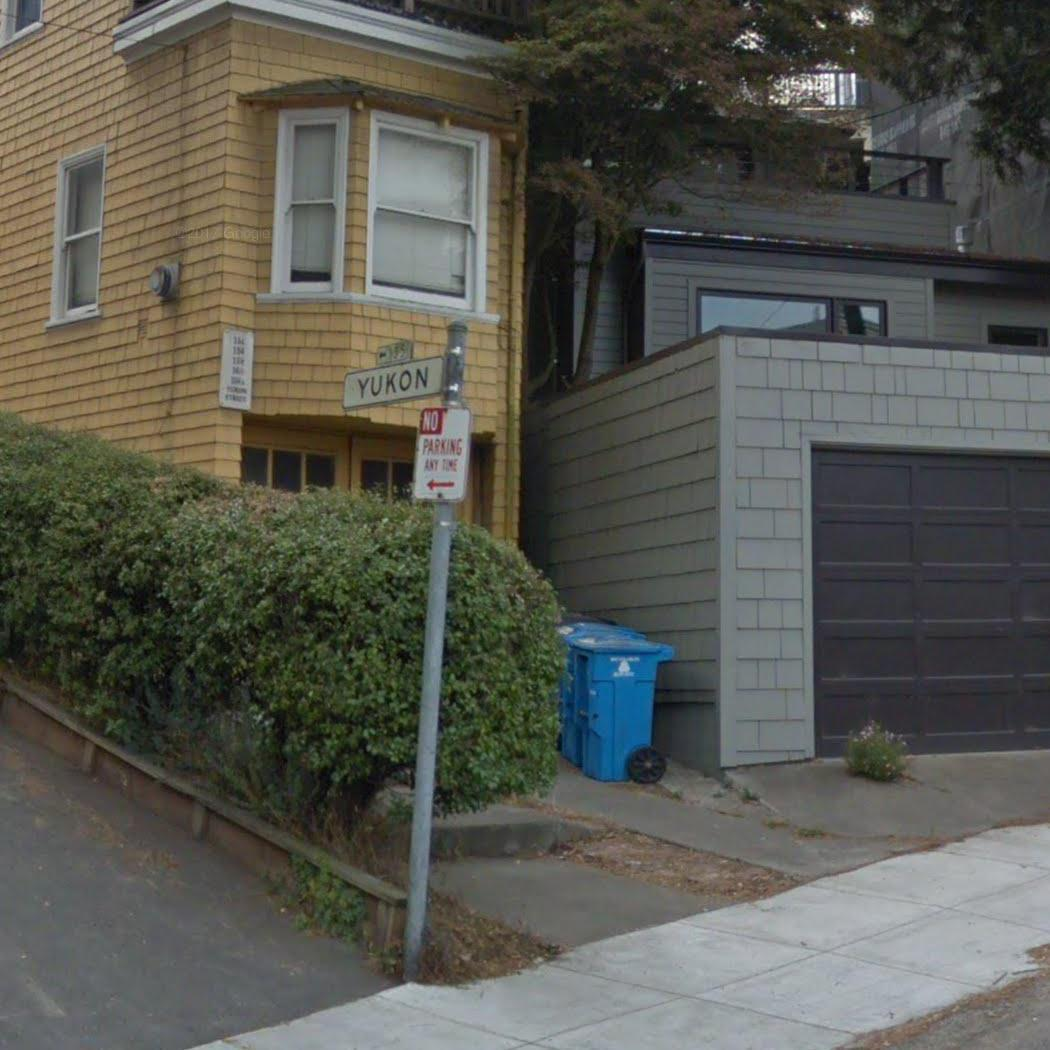No Parking Anytime: (411, 406, 473, 502)
